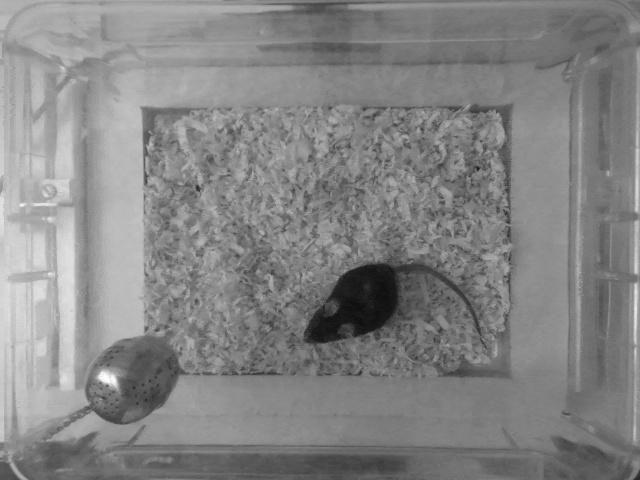mice: (300, 259, 489, 347)
